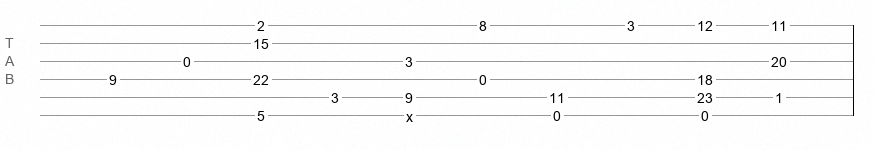0: (183, 54, 191, 64), (479, 72, 487, 82), (553, 108, 561, 118), (701, 108, 709, 118)
1: (775, 90, 783, 100)
11: (549, 90, 565, 100), (771, 18, 787, 28)
12: (697, 18, 713, 28)
15: (253, 36, 269, 46)
18: (697, 72, 713, 82)
2: (257, 18, 265, 28)
20: (771, 54, 787, 64)
22: (253, 72, 269, 82)
23: (697, 90, 713, 100)
3: (331, 90, 339, 100), (405, 54, 413, 64), (627, 18, 635, 28)
5: (257, 108, 265, 118)
8: (479, 18, 487, 28)
9: (109, 72, 117, 82), (405, 90, 413, 100)
x: (406, 109, 413, 117)
